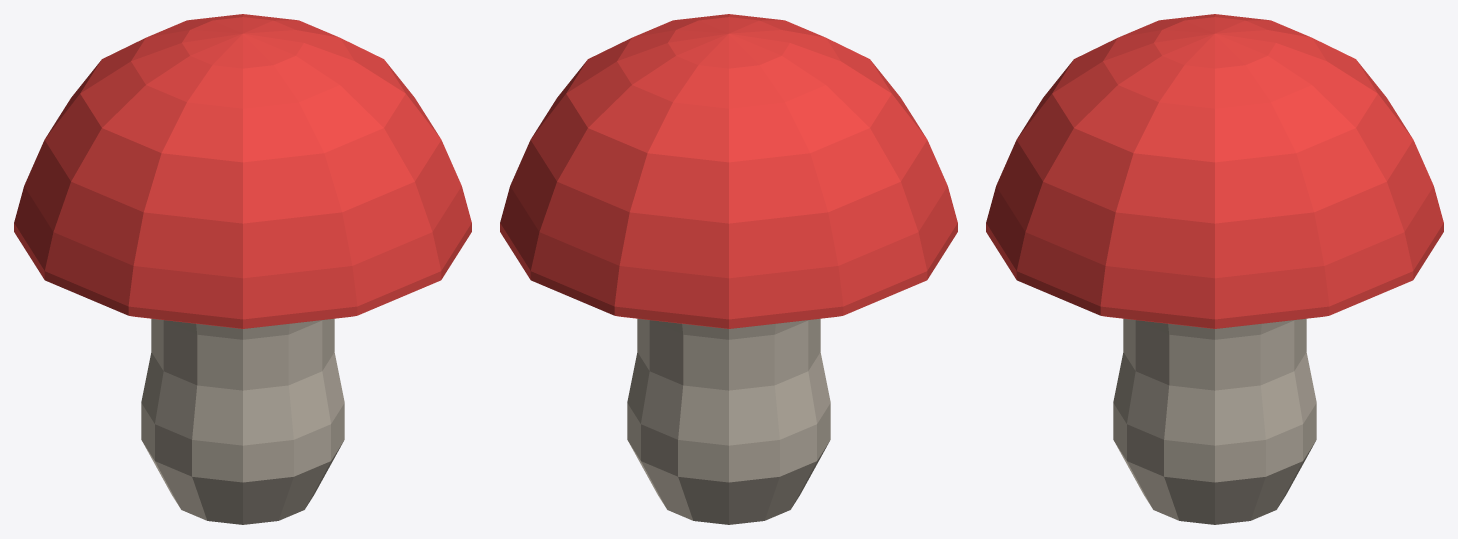
3 views of the same model, side by side, from view 1: azimuth 30°, elevation 25°; view 2: azimuth 150°, elevation 25°; view 3: azimuth 270°, elevation 25° (orthographic).
Parts seen in each view (by area): view 1: mushroom; view 2: mushroom; view 3: mushroom.
Part boxes in pixels (box(x1,y1,x2,y2)): mushroom: box(14, 14, 471, 524); mushroom: box(500, 14, 957, 524); mushroom: box(986, 14, 1443, 524).
Bounding box in the file's own units: 0.09 × 0.1 × 0.09.
